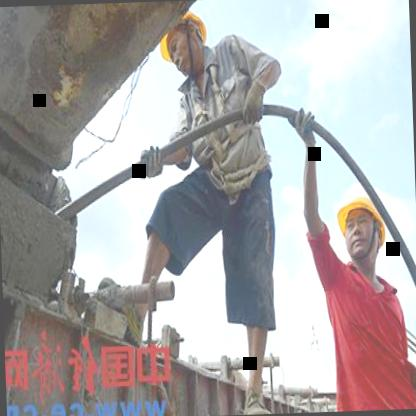helmet: (333, 184, 393, 272), (155, 4, 211, 83)
